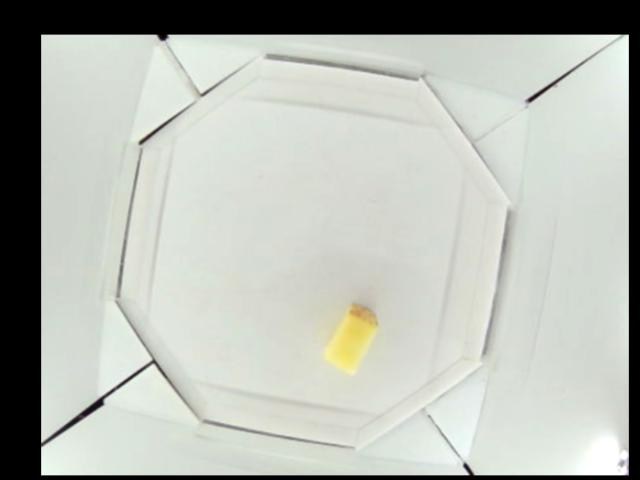Potato: (324, 302, 377, 373)
